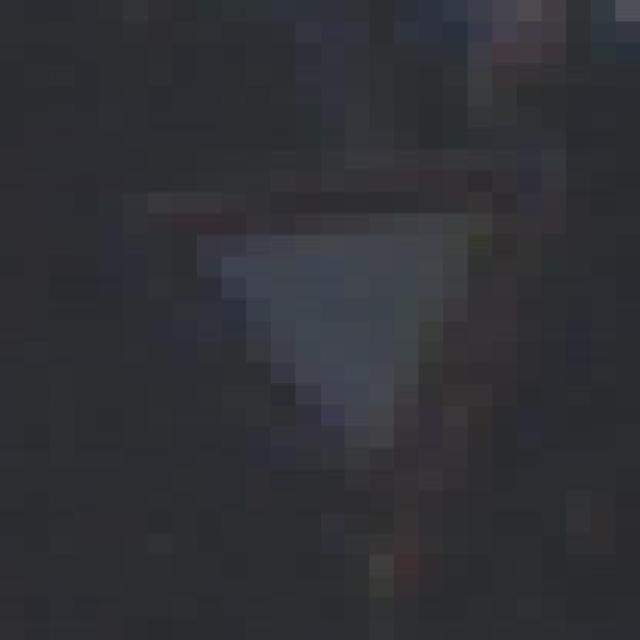Give Way: (121, 132, 564, 559)
